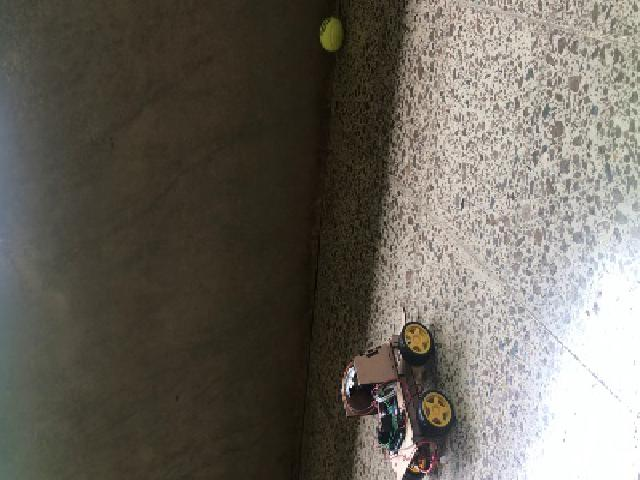Ball: (318, 19, 342, 50)
Robot: (338, 323, 458, 479)
